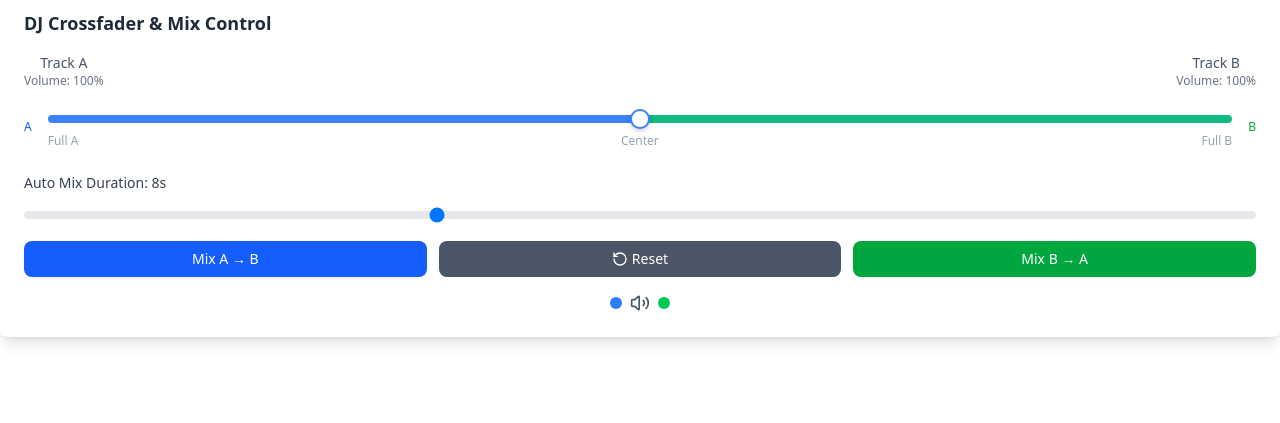
Test: Crossfader Component › starts auto mix B to A
Click the button "Mix B → A" at [1055, 259], box x1=853 y1=241 x2=1256 y2=277
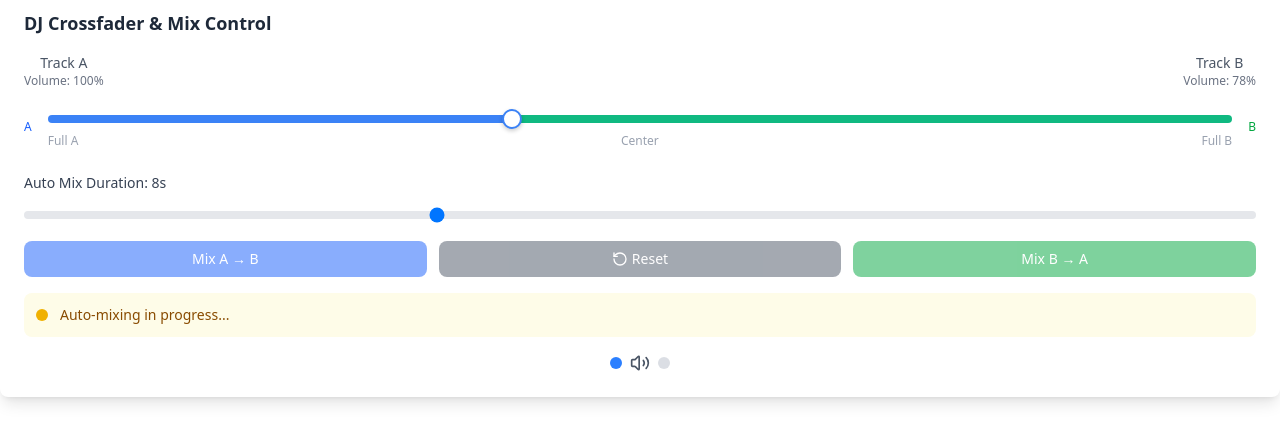
Check: the text "Auto-mixing in progress..." is shown, box x1=60 y1=305 x2=229 y2=325
